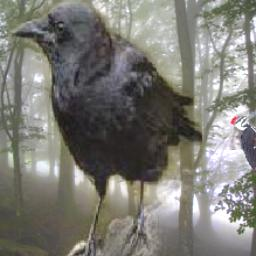Crow: (8, 0, 202, 256)
Woodpecker: (229, 113, 256, 184)
